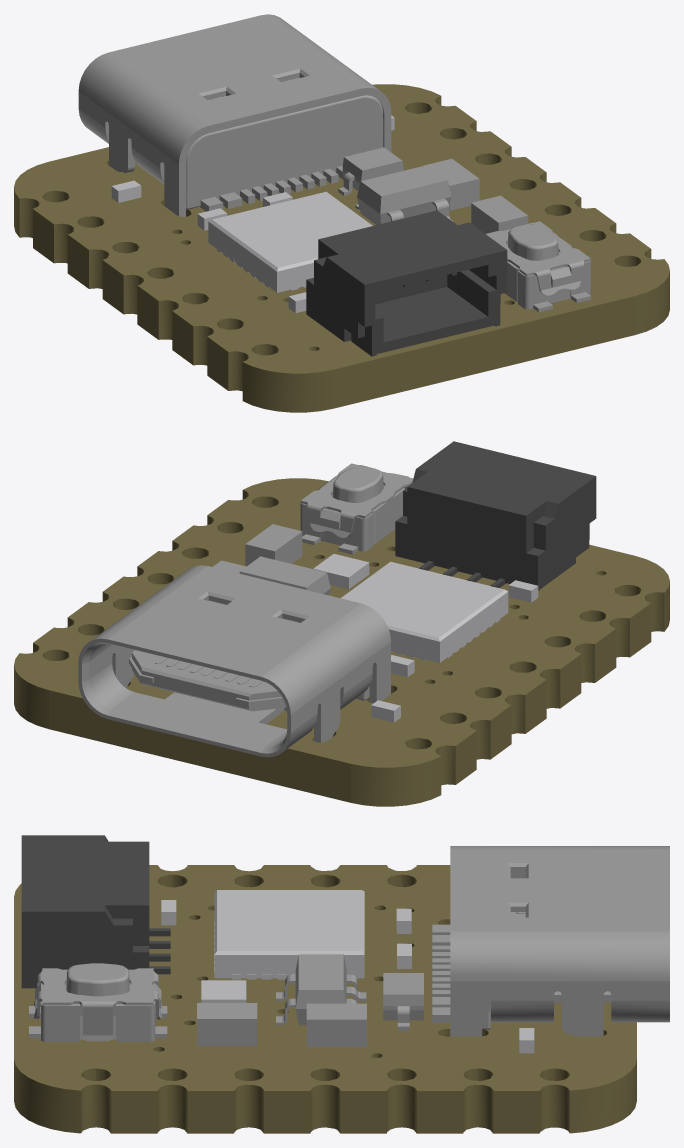
Rendered from ada-4600.glb.
3 views of the same model, one above another, from view 1: azimuth 30°, elevation 25°; view 2: azimuth 150°, elevation 25°; view 3: azimuth 270°, elevation 25° (orthographic). The views are drawn at different scales.
Visible parts, largest first — view 1: 0.16666666666666666_0.16666666666666666_0.08333333333333333_, 0.3333333333333333_0.3333333333333333_0.3333333333333333_0, 0.08333333333333333_0.08333333333333333_0.08333333333333333_, 0.5833333333333334_0.5833333333333334_0.5833333333333334_0.8; view 2: 0.16666666666666666_0.16666666666666666_0.08333333333333333_, 0.3333333333333333_0.3333333333333333_0.3333333333333333_0, 0.08333333333333333_0.08333333333333333_0.08333333333333333_, 0.5833333333333334_0.5833333333333334_0.5833333333333334_0.8; view 3: 0.16666666666666666_0.16666666666666666_0.08333333333333333_, 0.3333333333333333_0.3333333333333333_0.3333333333333333_0, 0.08333333333333333_0.08333333333333333_0.08333333333333333_, 0.5833333333333334_0.5833333333333334_0.5833333333333334_0.8.
Boxes of the visible parts, bbox=[...] form: 0.16666666666666666_0.16666666666666666_0.08333333333333333_: bbox=[14, 84, 669, 412]; 0.3333333333333333_0.3333333333333333_0.3333333333333333_0: bbox=[78, 14, 591, 312]; 0.08333333333333333_0.08333333333333333_0.08333333333333333_: bbox=[306, 210, 507, 356]; 0.5833333333333334_0.5833333333333334_0.5833333333333334_0.8: bbox=[111, 115, 394, 313]; 0.16666666666666666_0.16666666666666666_0.08333333333333333_: bbox=[14, 478, 669, 806]; 0.3333333333333333_0.3333333333333333_0.3333333333333333_0: bbox=[78, 463, 413, 757]; 0.08333333333333333_0.08333333333333333_0.08333333333333333_: bbox=[395, 441, 596, 590]; 0.5833333333333334_0.5833333333333334_0.5833333333333334_0.8: bbox=[313, 554, 538, 722]; 0.16666666666666666_0.16666666666666666_0.08333333333333333_: bbox=[14, 865, 636, 1133]; 0.3333333333333333_0.3333333333333333_0.3333333333333333_0: bbox=[29, 846, 669, 1046]; 0.08333333333333333_0.08333333333333333_0.08333333333333333_: bbox=[21, 835, 170, 988]; 0.5833333333333334_0.5833333333333334_0.5833333333333334_0.8: bbox=[161, 890, 534, 1053].
Bounding box in the file's own units: 1.78 × 0.6281 × 2.18.
